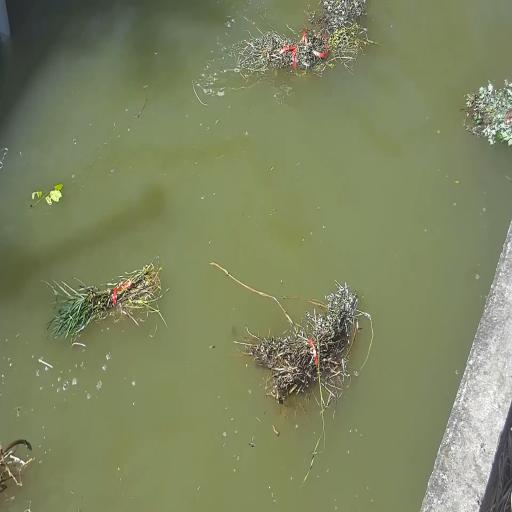twig: (216, 263, 365, 417), (223, 1, 362, 81), (45, 257, 167, 342), (462, 72, 512, 160), (0, 438, 35, 498)
